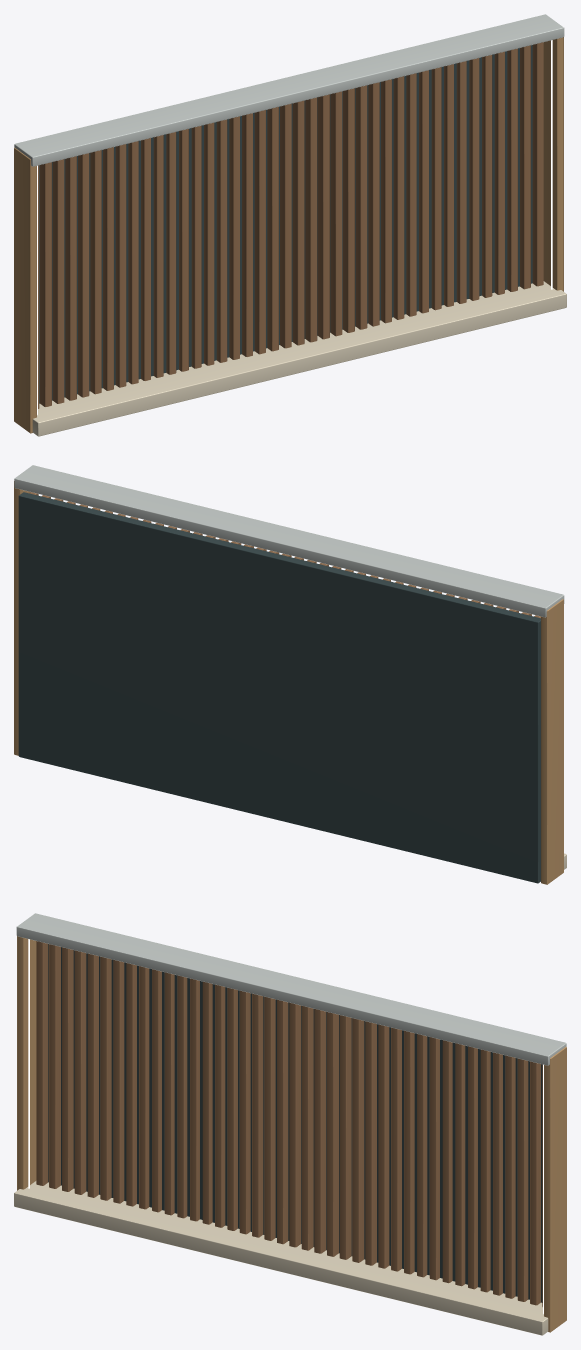
Rendered from gallery-alcove.glb.
3 renders of one model, top to bottom at view 1: azimuth 30°, elevation 25°; view 2: azimuth 150°, elevation 25°; view 3: azimuth 330°, elevation 25°, orthographic.
Parts seen in each view (by area): view 1: gallery-alcove; view 2: gallery-alcove; view 3: gallery-alcove.
Boxes of the visible parts, bbox=[...] form: gallery-alcove: bbox=[14, 14, 566, 436]; gallery-alcove: bbox=[14, 465, 566, 884]; gallery-alcove: bbox=[14, 913, 566, 1335].
Bounding box in the file's own units: 8.88 × 4.41 × 0.7049.
